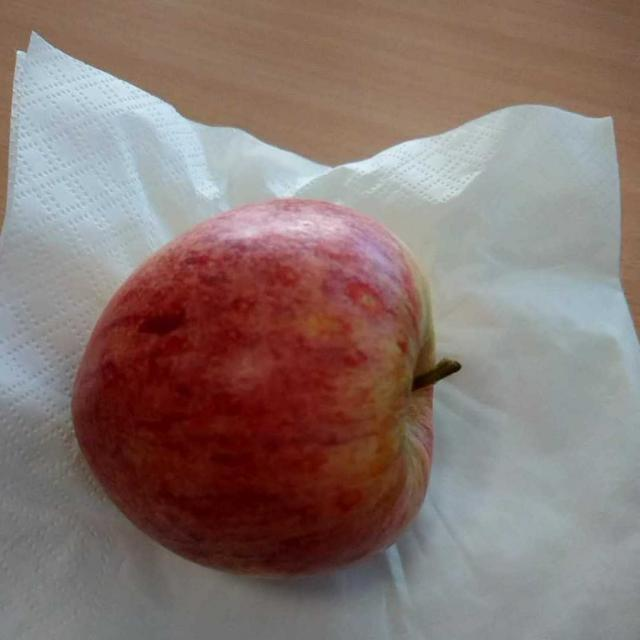apple: (75, 203, 444, 573)
